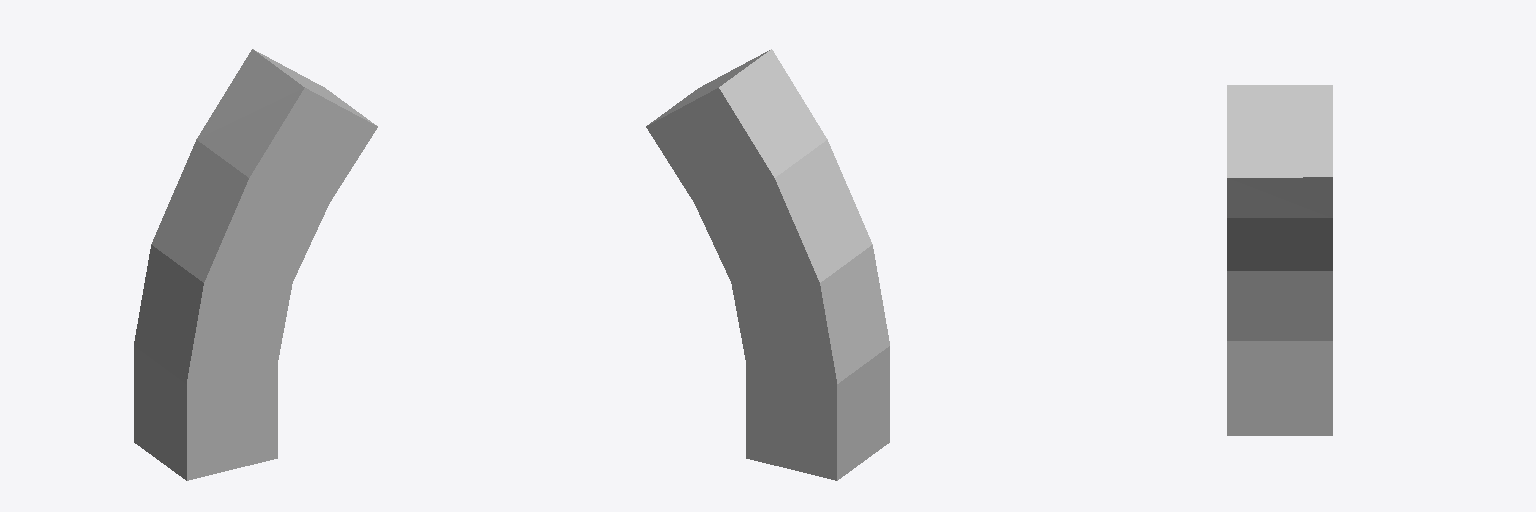
File: Animation_000036.obj
3 views of the same model, side by side, from view 1: azimuth 30°, elevation 25°; view 2: azimuth 150°, elevation 25°; view 3: azimuth 270°, elevation 25° (orthographic).
Parts seen in each view (by area): view 1: Cube; view 2: Cube; view 3: Cube.
Part boxes in pixels (left/top/right/bottom): Cube: left=134, top=49, right=377, bottom=480; Cube: left=646, top=49, right=889, bottom=480; Cube: left=1227, top=85, right=1332, bottom=435.
Size of the model in its own units: 2.79 by 5.07 by 1.33.